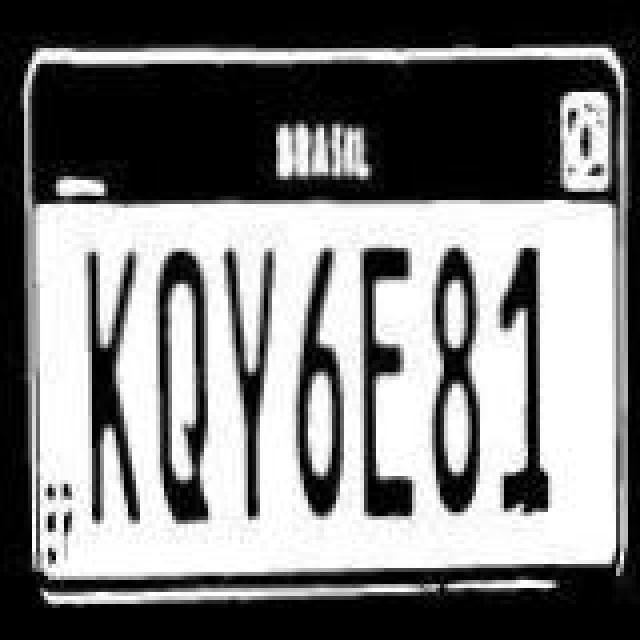1: (494, 242, 558, 518)
6: (288, 242, 348, 522)
8: (426, 244, 482, 520)
E: (356, 242, 416, 522)
K: (78, 248, 142, 528)
Q: (150, 246, 214, 526)
Y: (220, 242, 280, 522)
